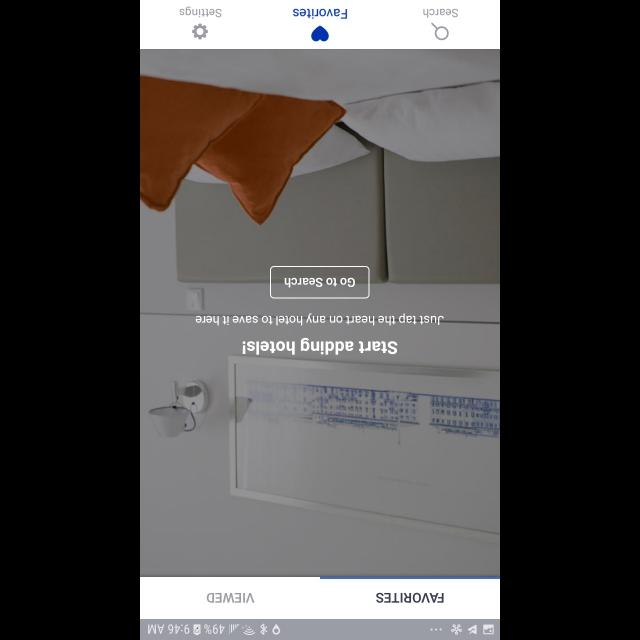icon: (431, 23, 449, 41), (311, 26, 329, 42), (192, 24, 208, 40)
image: (140, 49, 500, 576)
text: (196, 312, 444, 326), (242, 337, 398, 355), (376, 592, 444, 604), (293, 8, 347, 20), (179, 6, 221, 18), (206, 593, 254, 603), (422, 8, 458, 18)
textbutton: (270, 266, 370, 298)
uppertaskbar: (140, 618, 500, 640)
